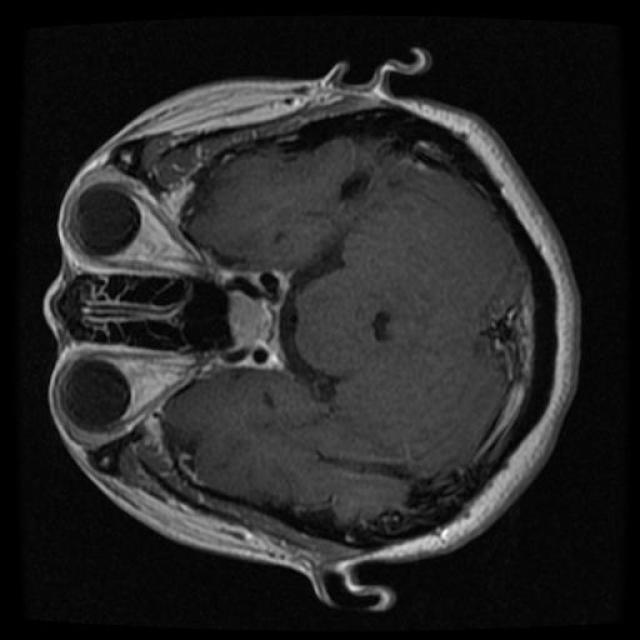Pituitary: (216, 271, 289, 367)
